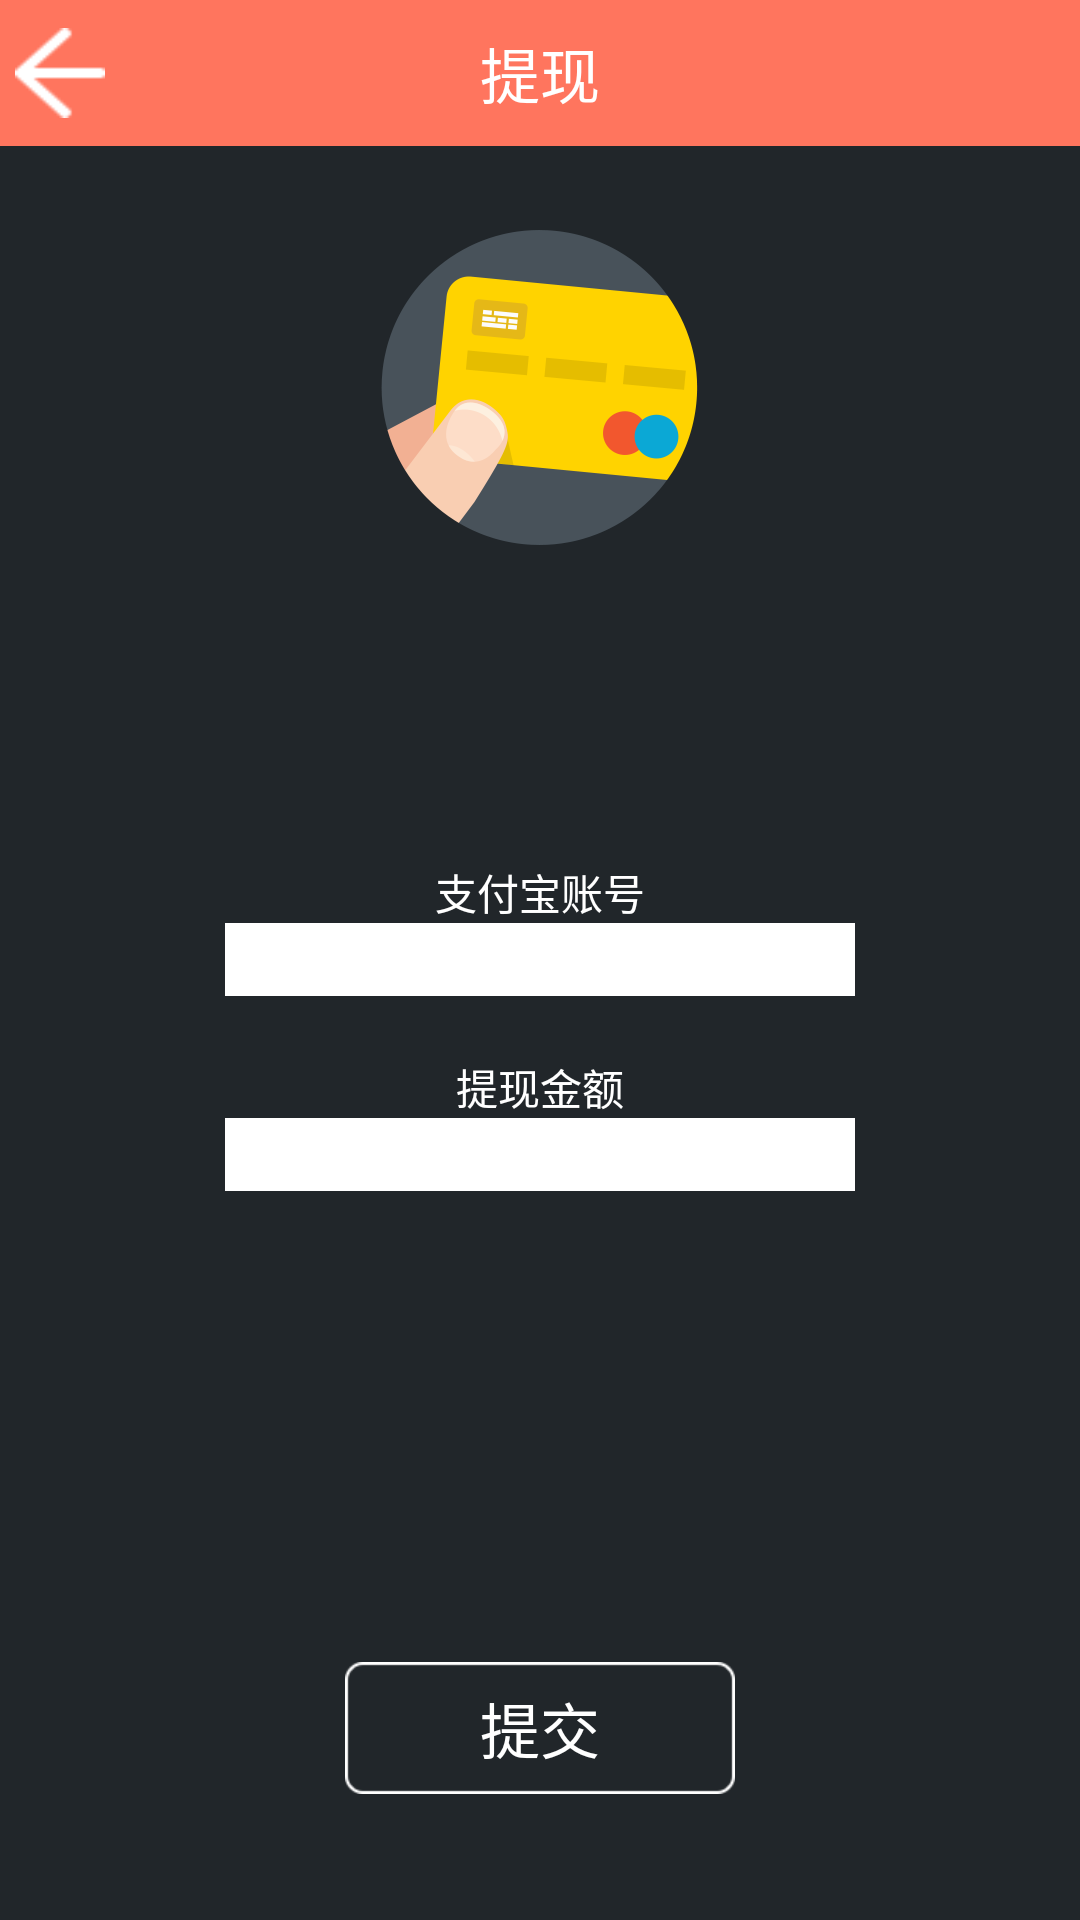

Icons on this 1080px x 1920px Android screen, each with the point to tap as (x=x, y=y):
back: (x=60, y=73)
tixianx: (x=540, y=387)
